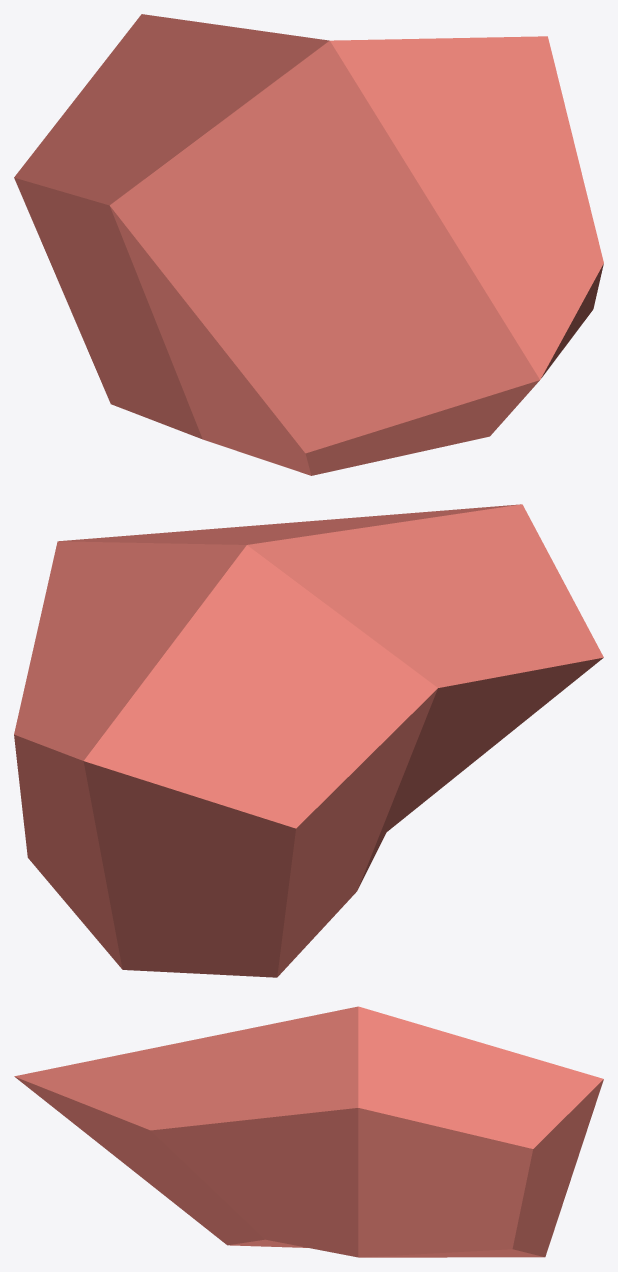
File: IdeaGeo2.fbx
3 views of the same model, one above another, from view 1: azimuth 30°, elevation 25°; view 2: azimuth 150°, elevation 25°; view 3: azimuth 270°, elevation 25° (orthographic). The views are drawn at different scales.
Visible parts, largest first — view 1: Cube; view 2: Cube; view 3: Cube.
Boxes of the visible parts, left/top/right/bottom form: Cube: left=14, top=14, right=603, bottom=475; Cube: left=14, top=504, right=603, bottom=977; Cube: left=14, top=1006, right=603, bottom=1257.
Size of the model in its own units: 95.65 by 83.42 by 171.
